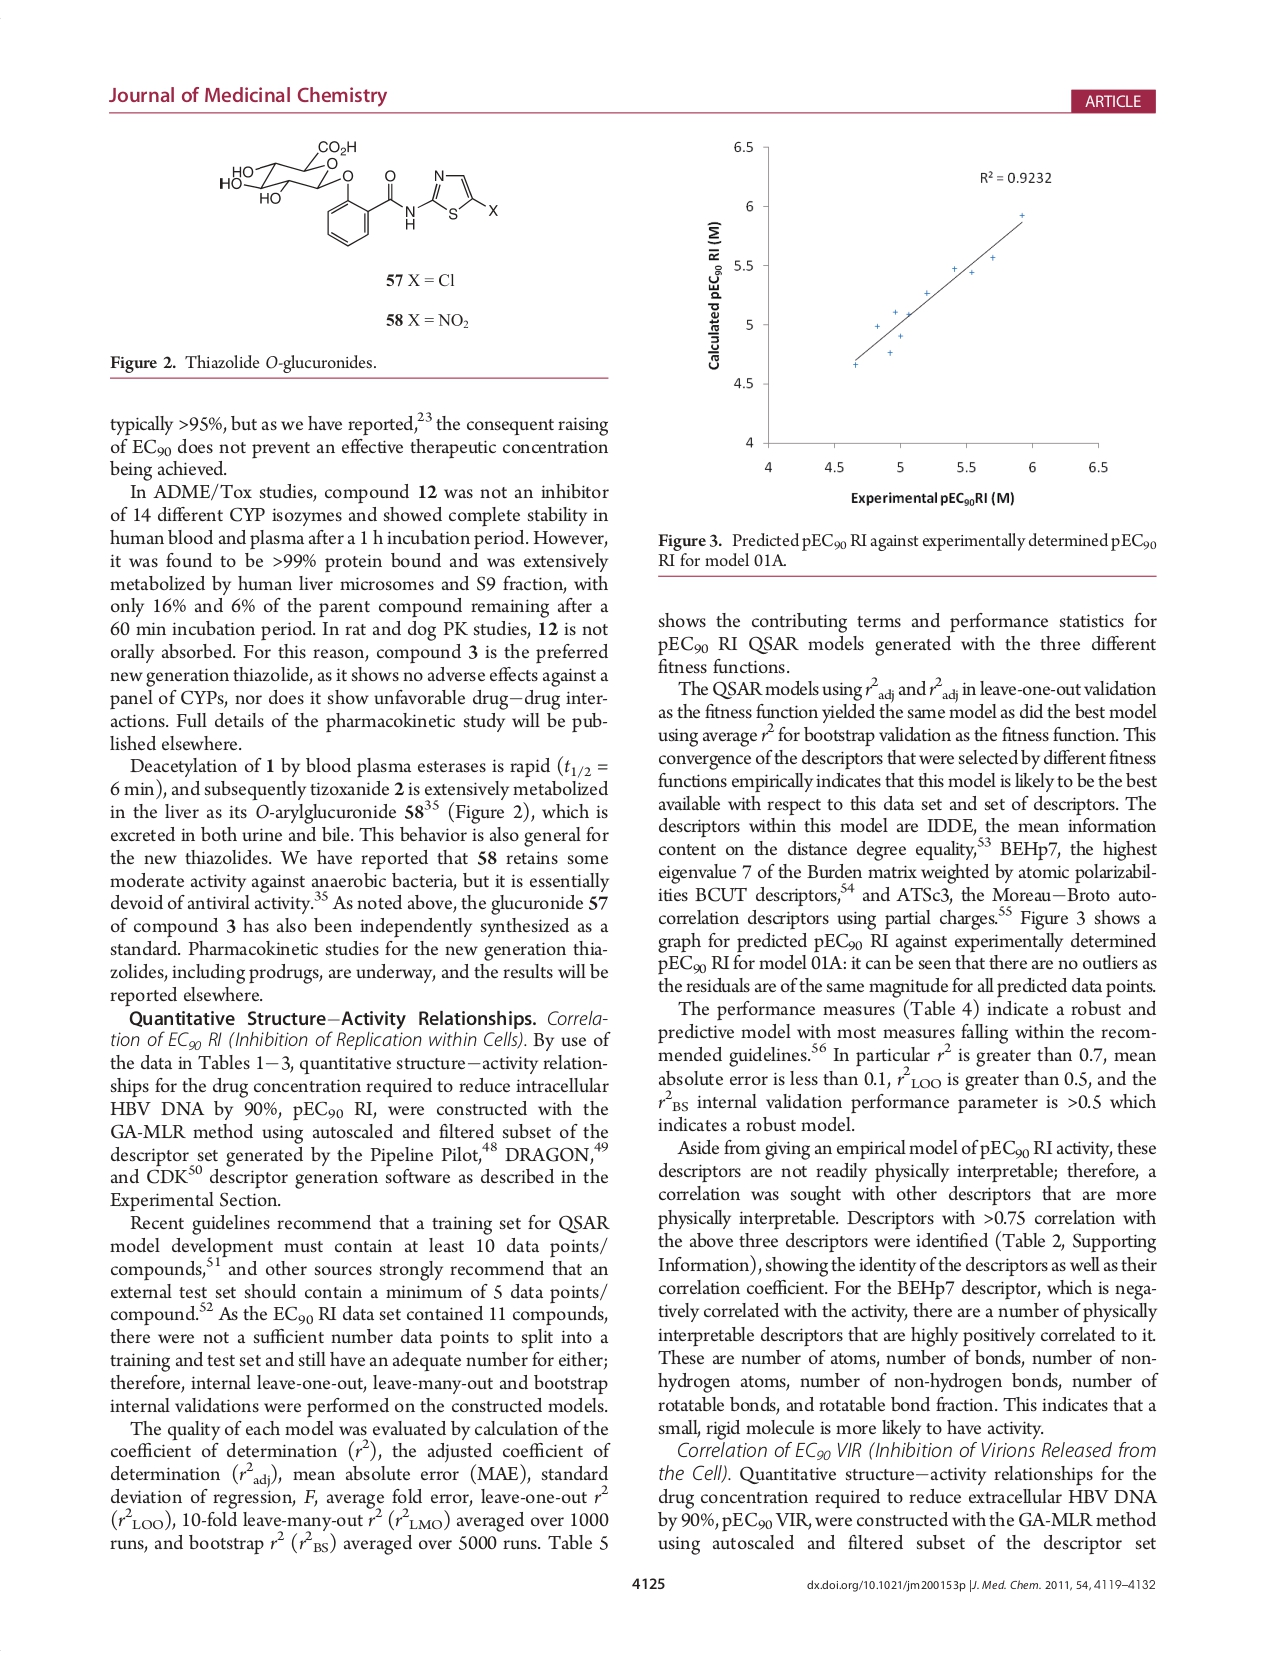exist_molecular: (211, 137, 504, 250)
